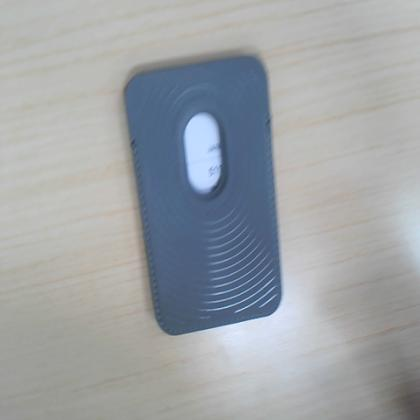pics: (125, 56, 281, 334)
